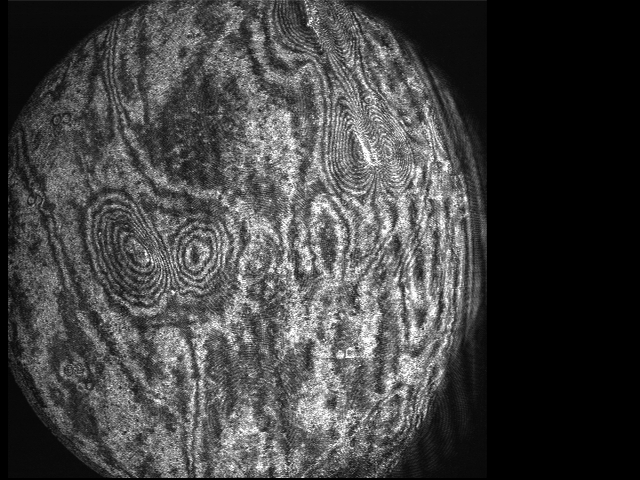plume: (84, 189, 228, 312)
